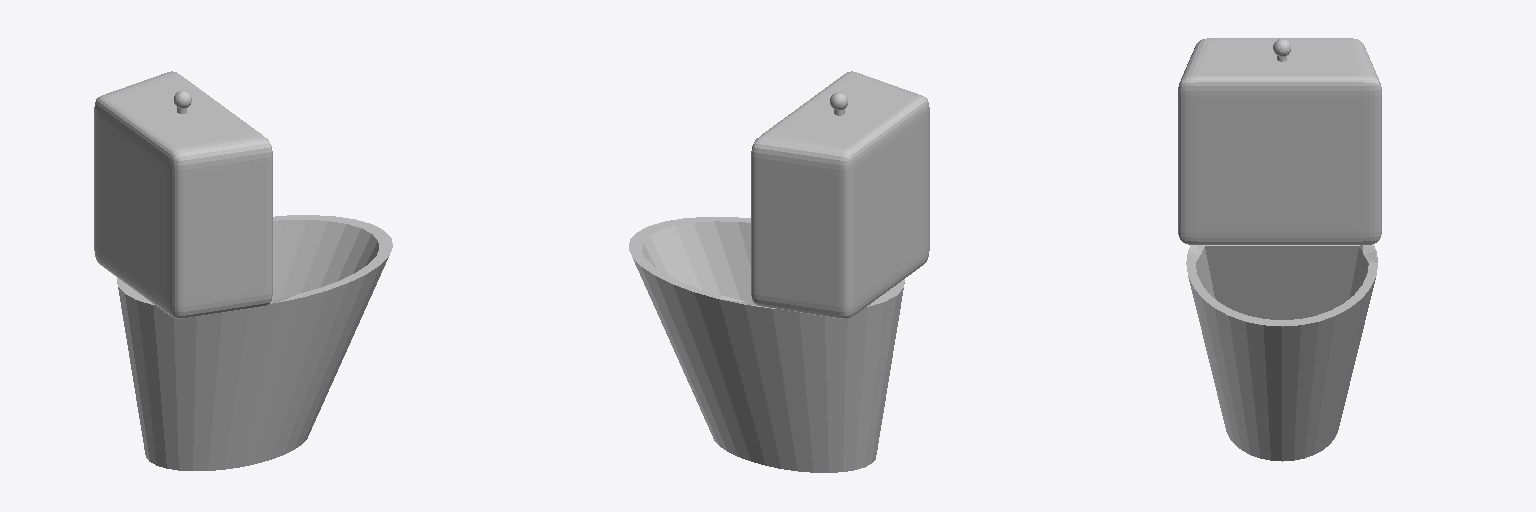
Rendered from toilet.obj.
The picture shows the model from 3 angles: view 1: azimuth 30°, elevation 25°; view 2: azimuth 150°, elevation 25°; view 3: azimuth 270°, elevation 25°; orthographic projection.
Parts seen in each view (by area): view 1: Cylinder, Cube; view 2: Cylinder, Cube; view 3: Cube, Cylinder.
Part boxes in pixels (x1,y1,x2,y2): Cylinder: (117, 215, 392, 470); Cube: (94, 71, 272, 318); Cylinder: (629, 217, 904, 472); Cube: (751, 71, 929, 318); Cube: (1178, 38, 1381, 244); Cylinder: (1186, 244, 1377, 461).
Size of the model in its own units: 3.12 by 4.17 by 2.13.